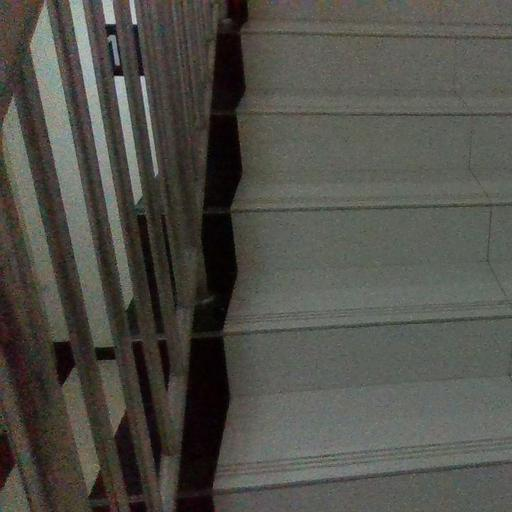Stairs: (214, 0, 512, 512)
